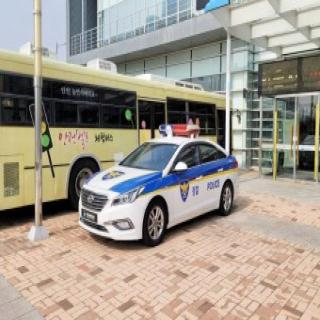Police_car: (78, 124, 238, 245)
